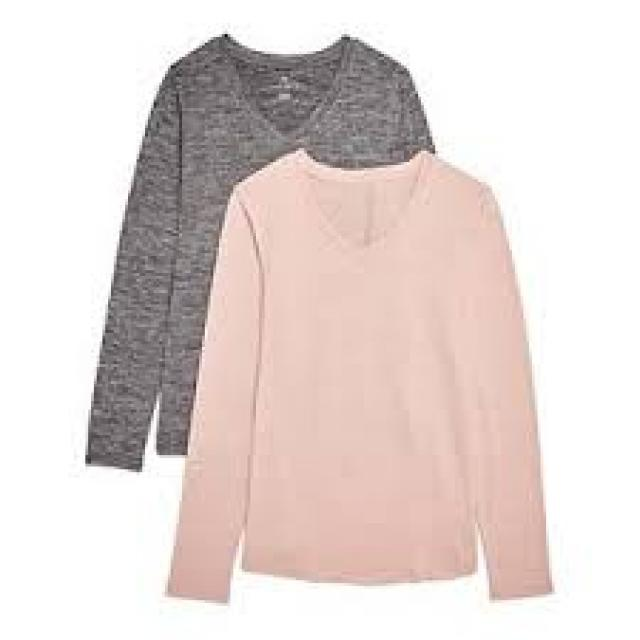plain: (158, 149, 560, 609)
